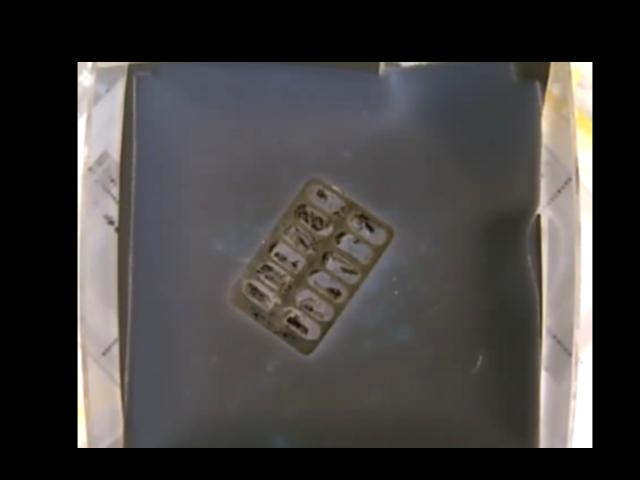Medicine: (233, 177, 394, 364)
